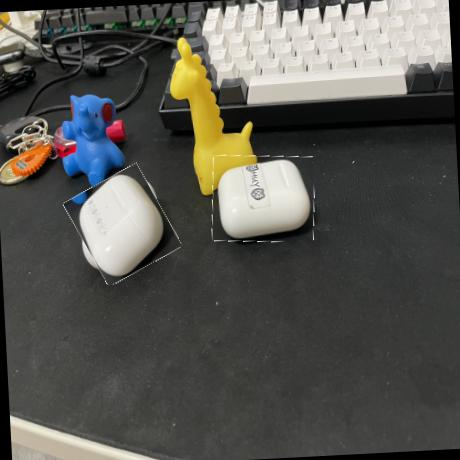airpod2: (209, 151, 317, 244)
airpod3: (70, 168, 176, 280)
